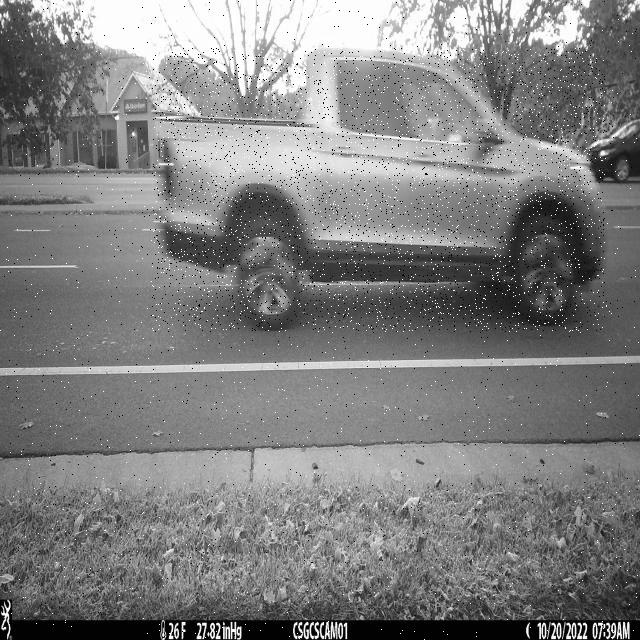Pickup: (152, 48, 605, 332)
